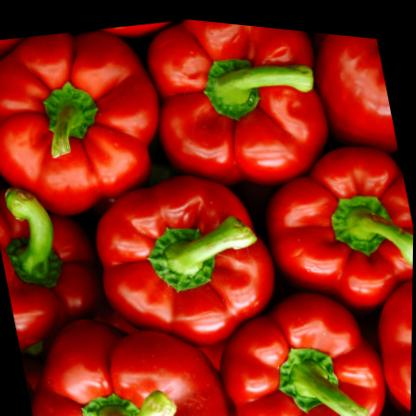bell_pepper: (71, 147, 291, 371), (137, 11, 352, 201), (0, 8, 183, 226), (249, 122, 415, 322), (204, 271, 393, 416)
